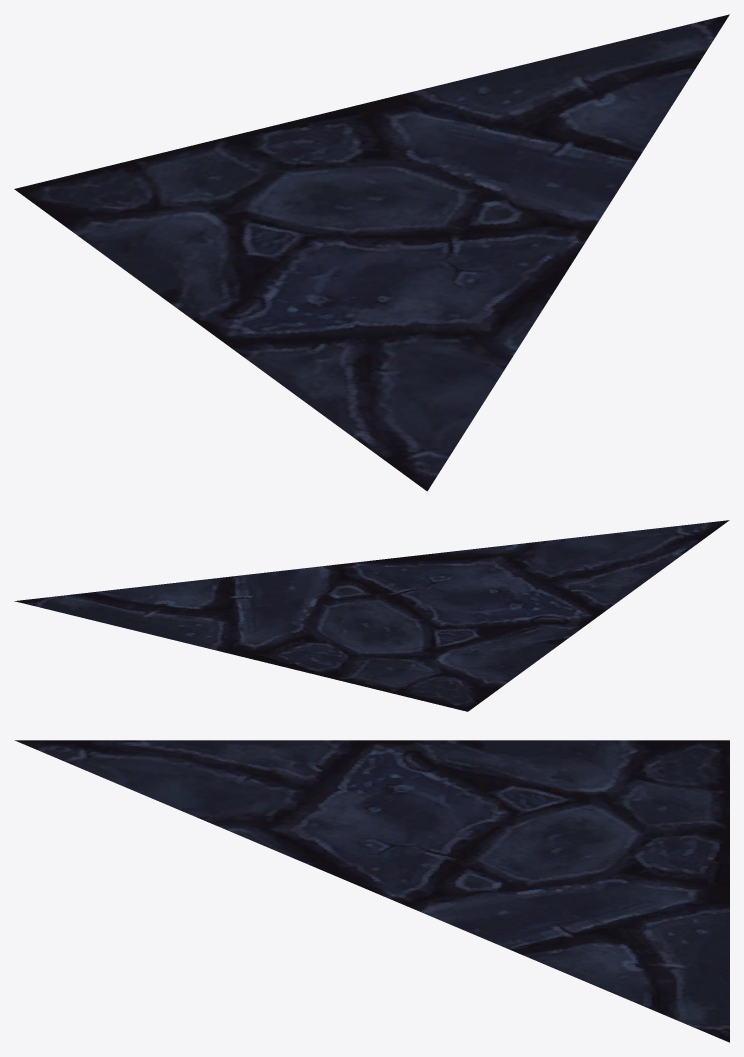
Rendered from palace_floor_diagonal_noshadow_01.fbx.
3 renders of one model, top to bottom at view 1: azimuth 30°, elevation 25°; view 2: azimuth 150°, elevation 25°; view 3: azimuth 270°, elevation 25°, orthographic. The views are drawn at different scales.
Parts seen in each view (by area): view 1: palace_tileset/palace_floor01_mat; view 2: palace_tileset/palace_floor01_mat; view 3: palace_tileset/palace_floor01_mat.
Boxes of the visible parts, x1,y1,x2,y2 form: palace_tileset/palace_floor01_mat: (14,14,729,491); palace_tileset/palace_floor01_mat: (14,520,729,711); palace_tileset/palace_floor01_mat: (15,740,729,1042).
Size of the model in its own units: 4 by 0 by 4.
